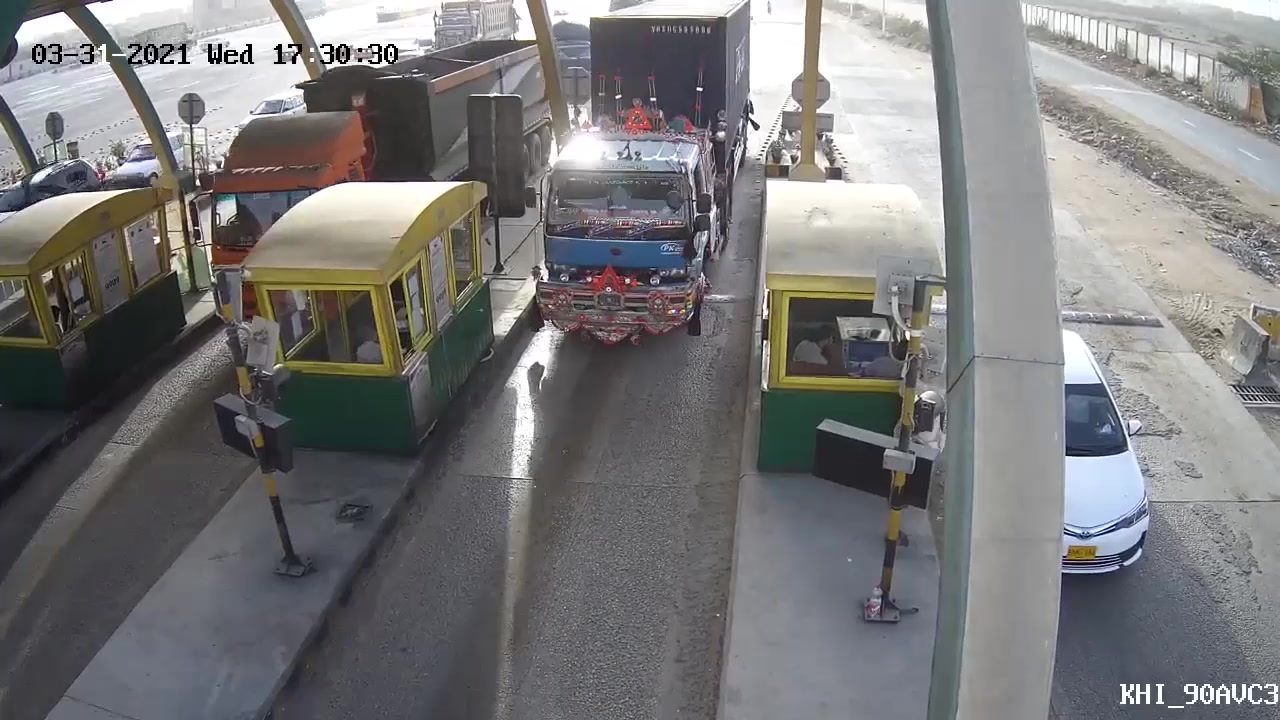F6: (537, 1, 758, 360)
